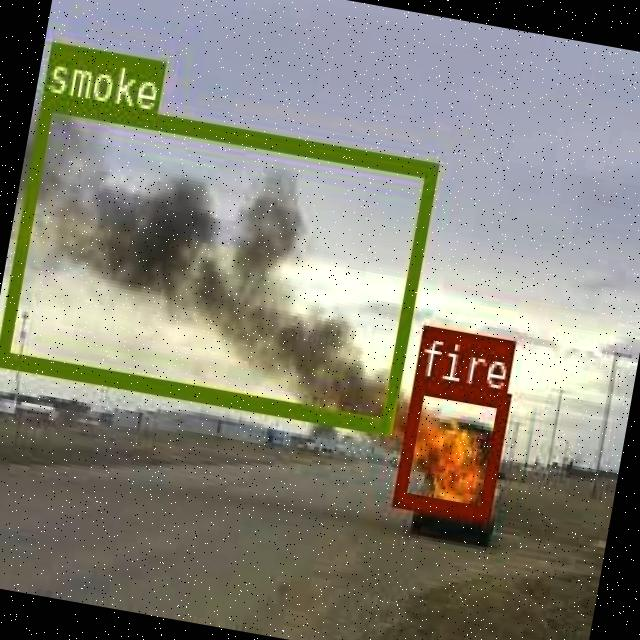fire: (390, 376, 508, 518)
smoke: (0, 92, 436, 430)
